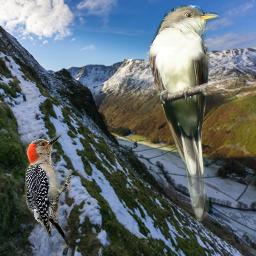Cuckoo: (149, 4, 220, 223)
Woodpecker: (21, 131, 72, 253)
